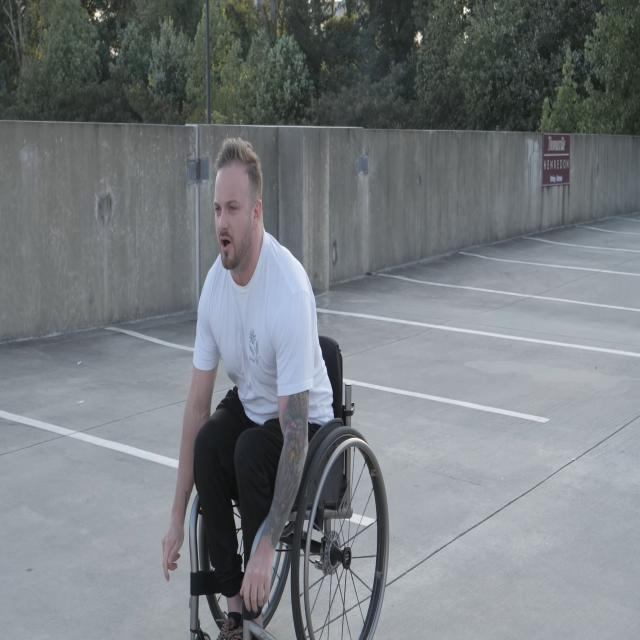wheelchairs: (187, 333, 389, 640)
